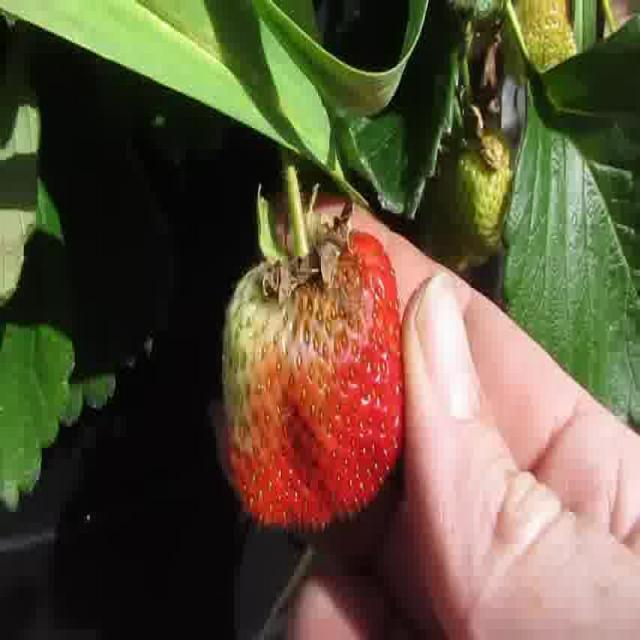Fruta sana: (220, 197, 414, 536), (442, 130, 524, 264), (497, 0, 594, 103)
